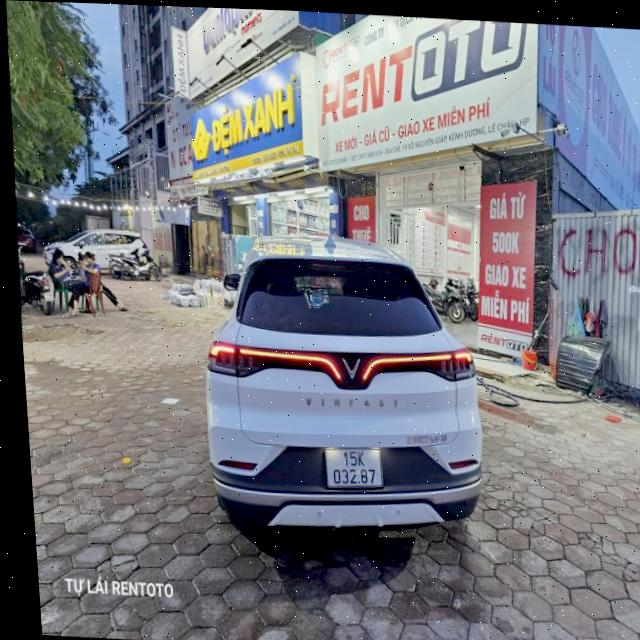car: (192, 237, 498, 566), (36, 220, 151, 273)
motorcycle: (101, 244, 163, 282)
plate: (318, 442, 388, 493)
